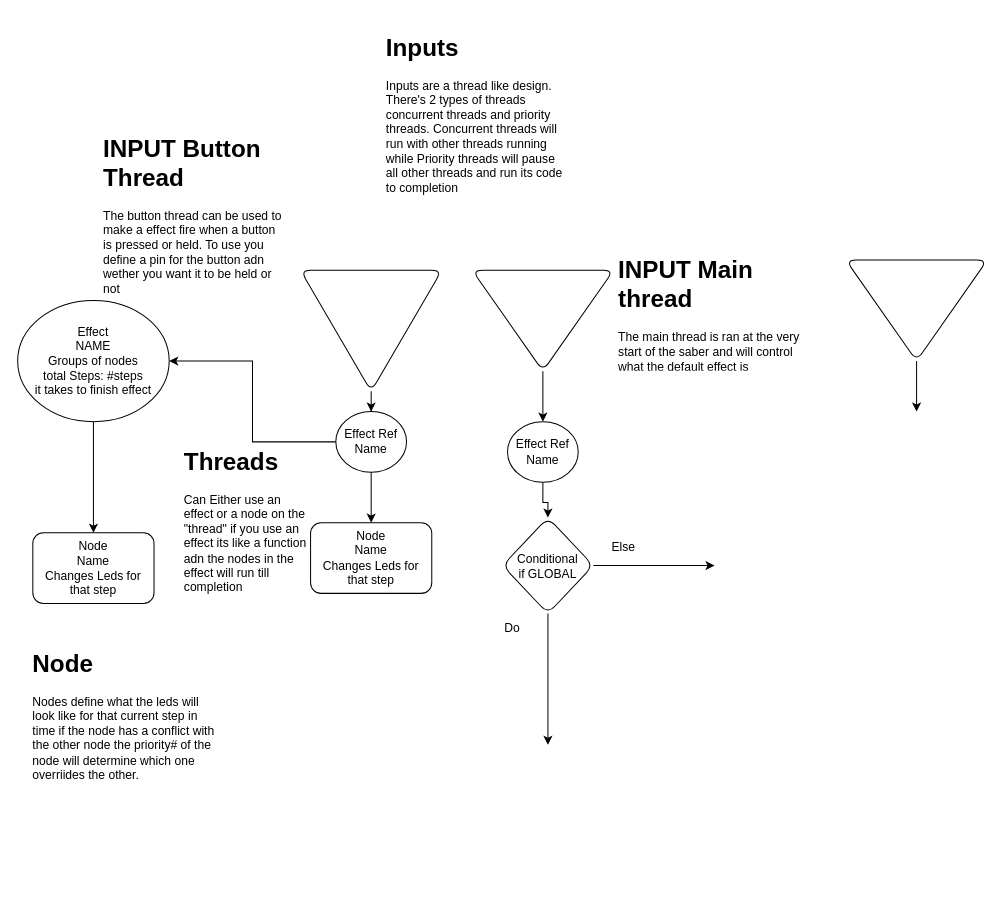
The diagram is 1005 pixels wide and 923 high, and some of its shapes have lost their labels. Here are the shapes that lost their labels. From the top down, the box of each, then its label:
(299, 269, 442, 391): Input button pin 3 pressed or held
(471, 269, 614, 371): Input main
(845, 259, 987, 361): Input Conditional If
